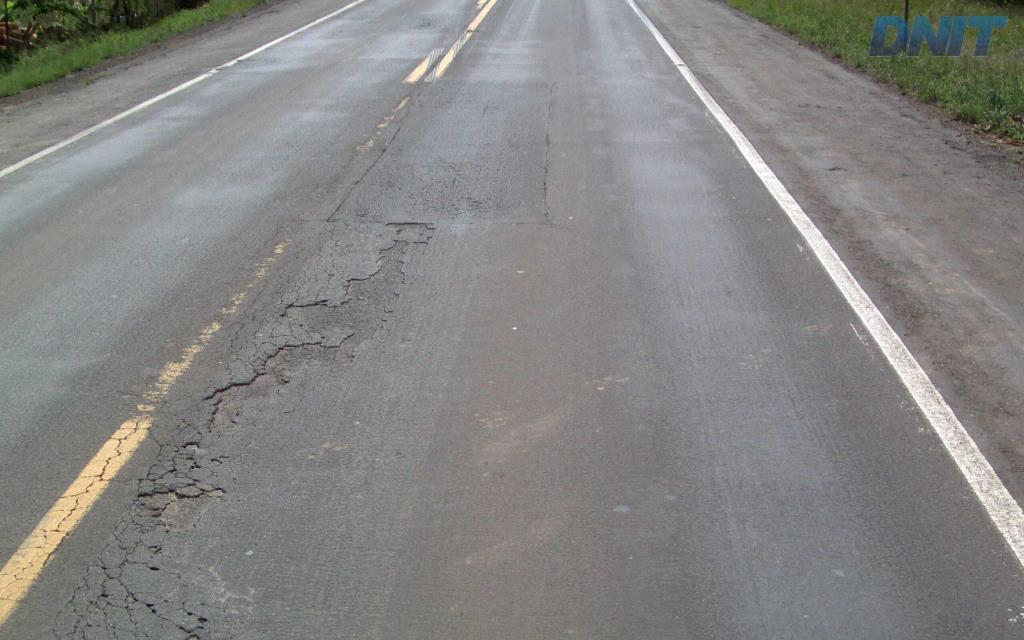crack: (136, 444, 191, 488)
pothole: (199, 235, 417, 436), (140, 479, 233, 547)
